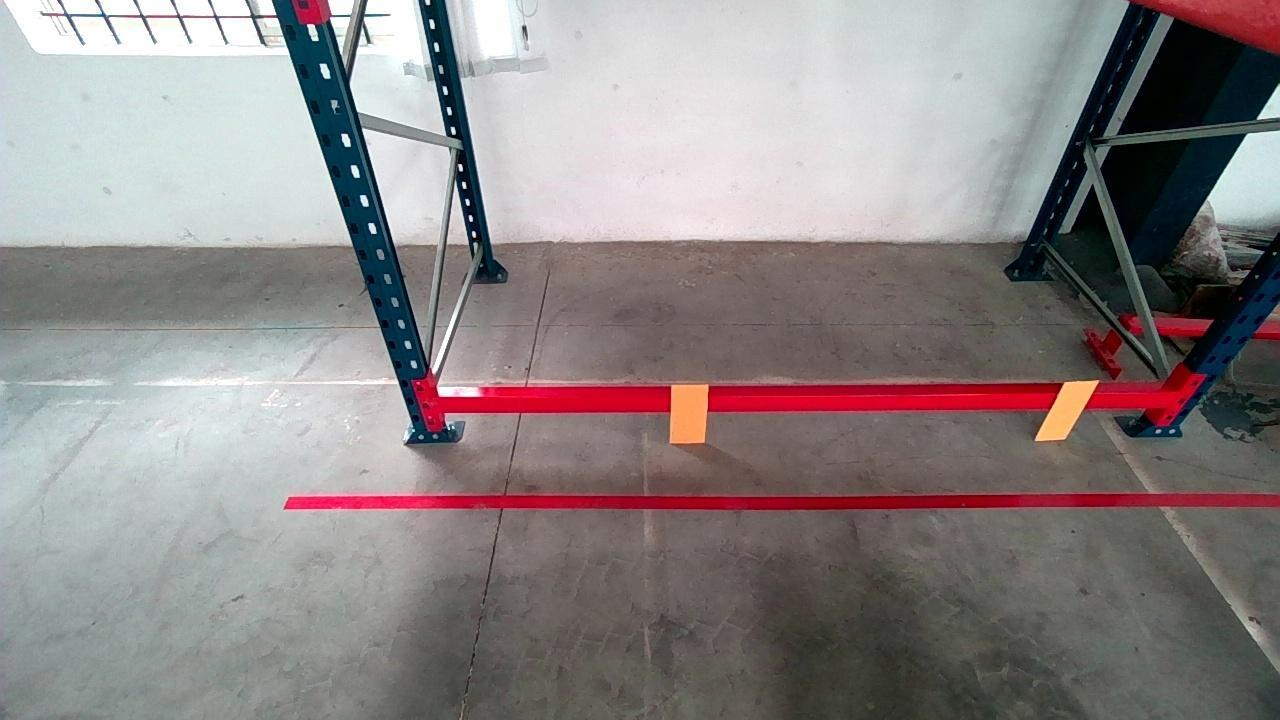h_rack: (446, 381, 1162, 413)
orange_strip: (1036, 379, 1100, 439), (671, 382, 708, 442)
red_line: (291, 487, 1267, 522)
